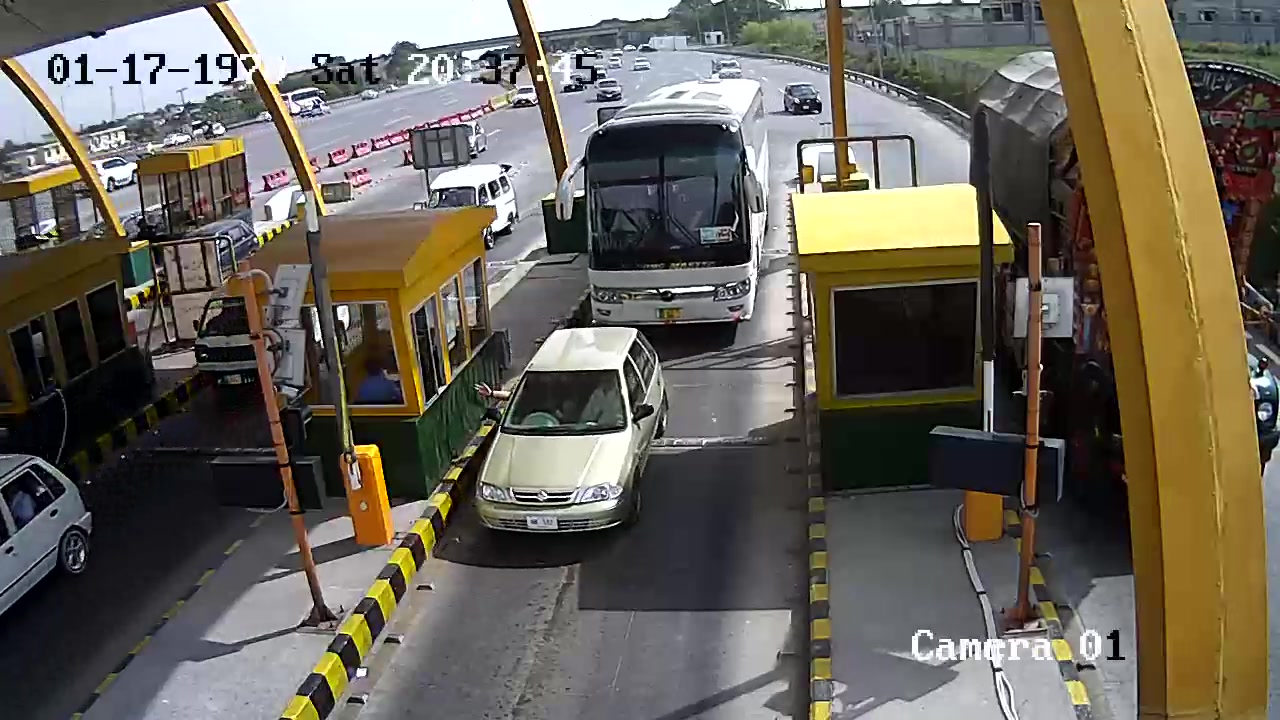F1: (471, 327, 680, 557)
F4: (577, 72, 781, 327)
